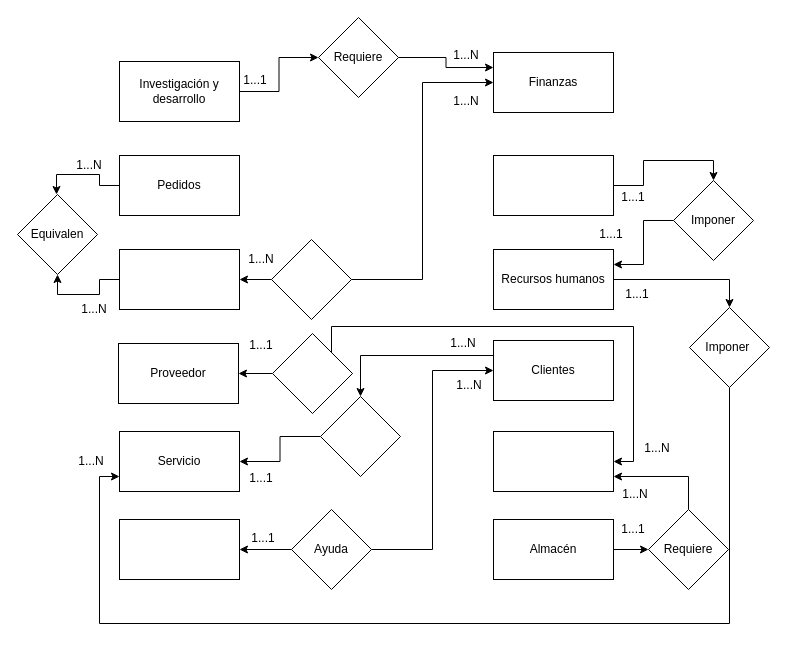
Some shapes in this 787 by 649 pixel diagram are drawn without their labels. Each missing label, with the centre of its shape:
"Invertir" belongs at pixel 360 436.
"Produce" belongs at pixel 311 279.
"Reparte" belongs at pixel 312 373.
"Roles" belongs at pixel 553 461.
"Seguridad e higiene" belongs at pixel 553 185.
"Soporte" belongs at pixel 179 549.
"Ventas" belongs at pixel 179 279.
